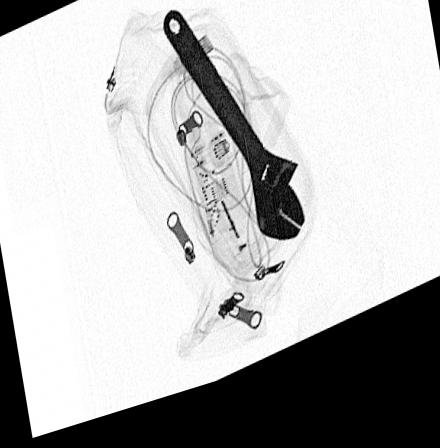Wrench: (162, 19, 303, 256)
